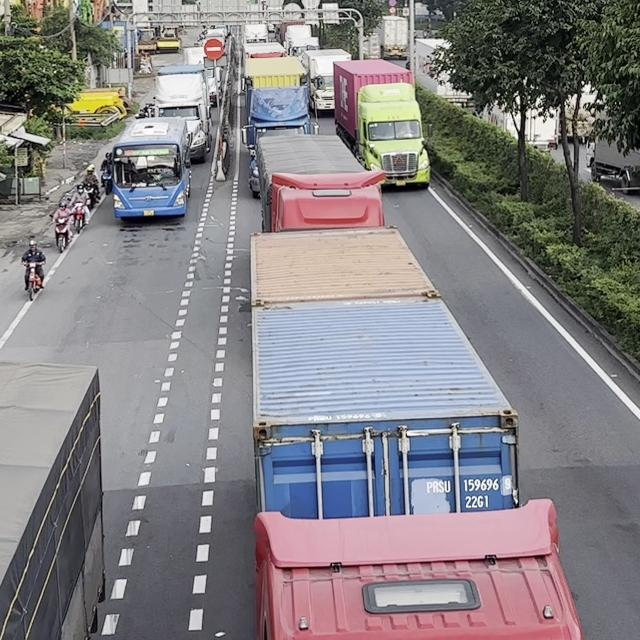bus: (105, 118, 192, 220)
motorcycle: (21, 256, 45, 301), (49, 212, 72, 253), (69, 200, 90, 233), (80, 181, 99, 208), (100, 168, 112, 194)
truck: (253, 228, 583, 639), (0, 360, 106, 639), (255, 132, 387, 232), (332, 58, 431, 189), (240, 56, 321, 200), (151, 64, 212, 161), (299, 48, 352, 115)
